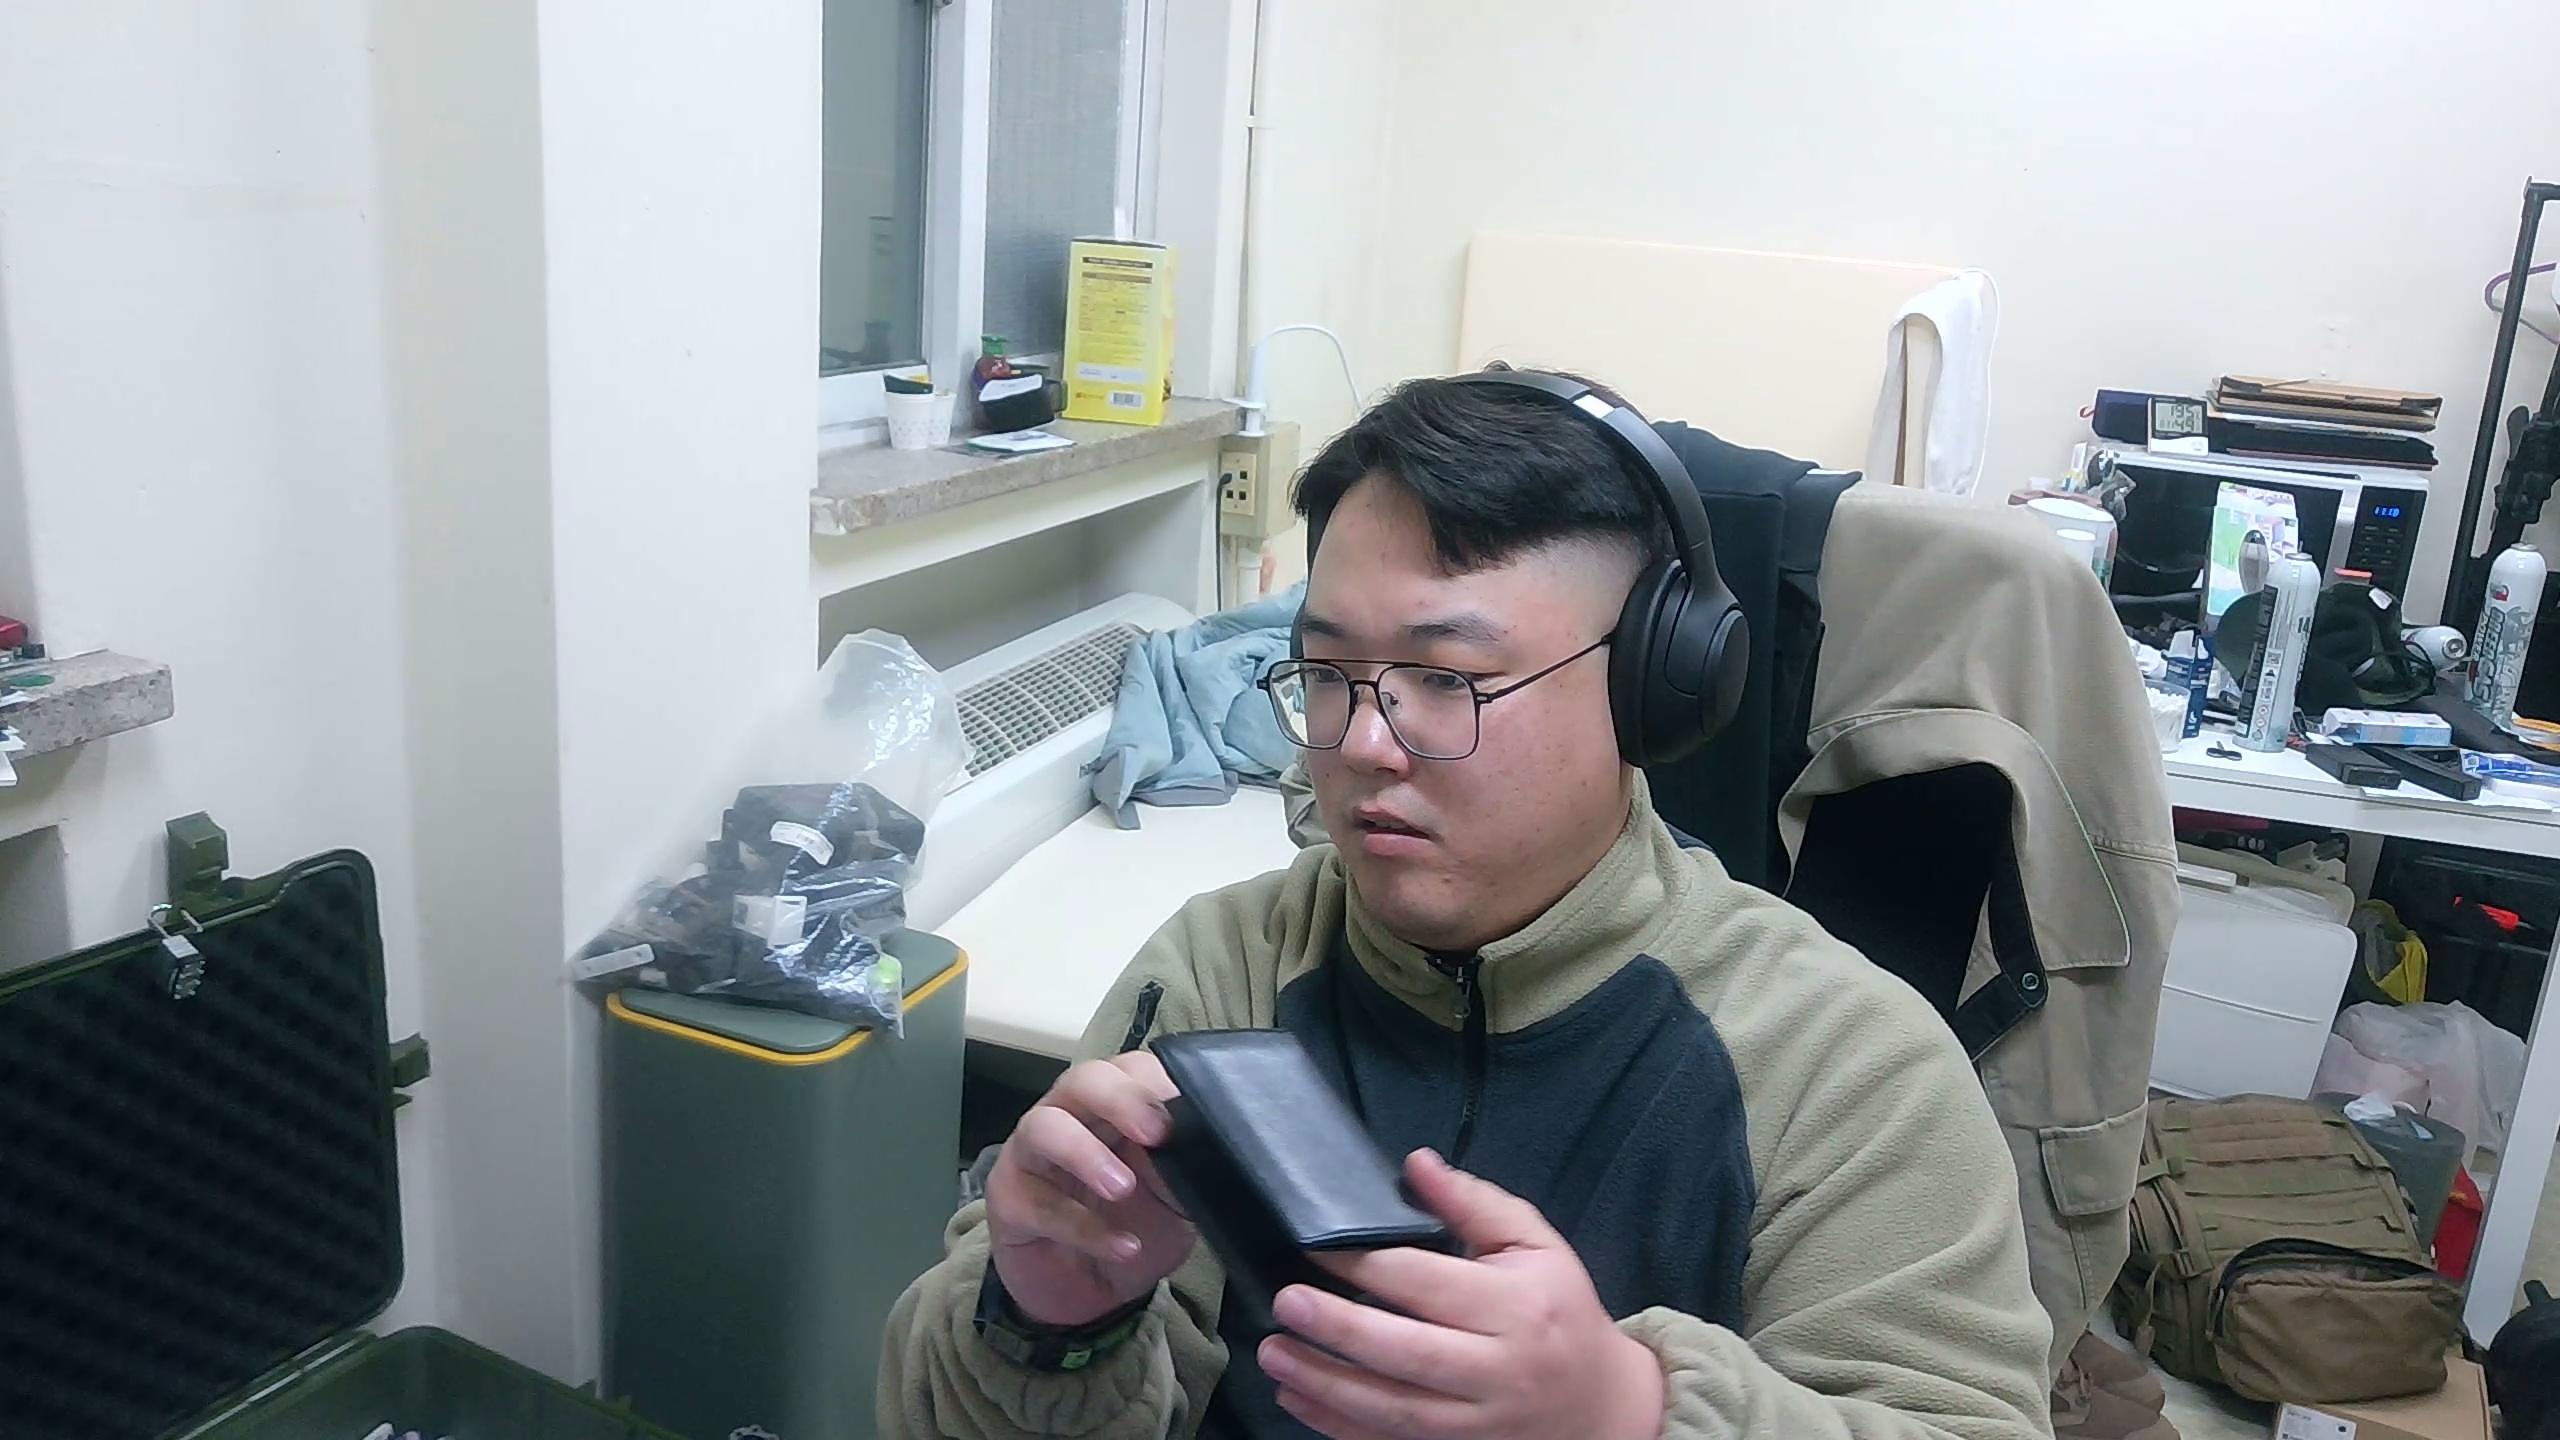earphone: (1141, 1023, 1466, 1438)
